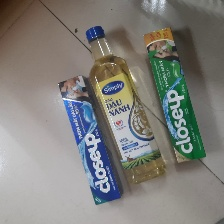CloseUp Tuyet: (57, 73, 123, 206)
CloseUp Xanh: (143, 25, 207, 164)
Simply: (85, 25, 166, 182)
